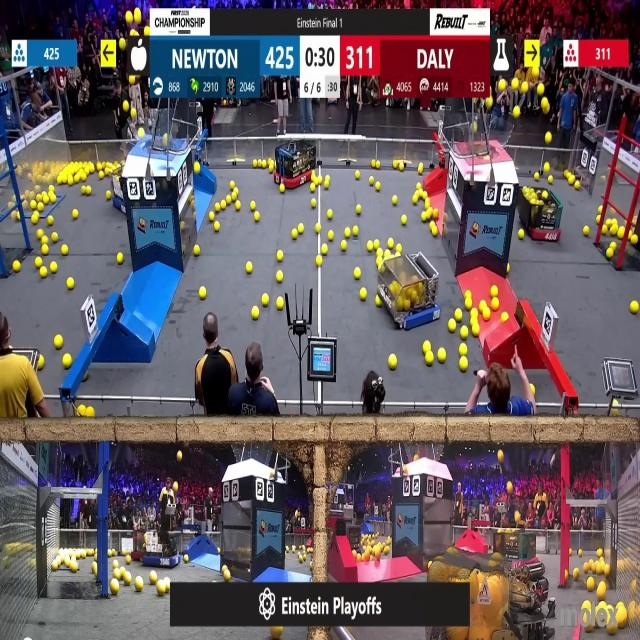ball_airborne: (272, 626, 283, 640), (540, 98, 548, 113), (498, 79, 506, 91), (531, 67, 539, 79), (514, 106, 522, 118), (134, 9, 141, 22), (537, 86, 544, 98), (486, 98, 493, 110), (497, 450, 504, 462), (122, 101, 129, 112), (138, 129, 145, 140), (118, 39, 125, 50), (544, 133, 551, 144), (127, 10, 133, 22), (506, 482, 512, 494), (173, 483, 180, 493), (516, 513, 522, 524), (522, 84, 528, 95), (176, 451, 182, 462), (131, 108, 137, 118), (513, 78, 519, 88), (164, 135, 169, 147), (130, 75, 136, 84), (144, 27, 149, 37), (131, 30, 137, 37)
ball_ground: (617, 610, 628, 630), (597, 584, 606, 601), (158, 583, 168, 596), (63, 354, 72, 368), (110, 581, 119, 595), (389, 354, 397, 369), (607, 623, 616, 636), (56, 336, 64, 350), (460, 357, 468, 371), (439, 348, 447, 362), (630, 302, 638, 315), (136, 579, 144, 592), (460, 326, 468, 339), (588, 579, 596, 592), (122, 573, 131, 584), (459, 344, 467, 356), (425, 353, 433, 365), (276, 250, 284, 262), (200, 286, 207, 299), (276, 272, 284, 283), (631, 236, 639, 247), (354, 268, 361, 280), (455, 310, 462, 322), (263, 294, 270, 306), (359, 288, 366, 300), (12, 262, 19, 274), (449, 320, 456, 332), (37, 356, 44, 368), (252, 307, 258, 320), (491, 286, 498, 297), (484, 310, 491, 321), (471, 325, 478, 336), (316, 255, 323, 266), (40, 268, 47, 279), (423, 342, 430, 353), (222, 569, 229, 580), (149, 571, 156, 582), (68, 278, 74, 290), (492, 297, 498, 309), (32, 212, 38, 224), (278, 299, 284, 311), (93, 562, 99, 574), (196, 161, 202, 173), (72, 562, 78, 574), (49, 264, 56, 274), (41, 245, 48, 255), (62, 245, 69, 255), (253, 212, 260, 222), (341, 241, 348, 251), (606, 249, 613, 259), (213, 221, 220, 231), (619, 229, 626, 239), (88, 408, 95, 418), (470, 309, 477, 319), (464, 300, 471, 310), (78, 406, 85, 416), (36, 256, 42, 267), (35, 228, 41, 239), (432, 209, 438, 220), (604, 564, 610, 575), (584, 600, 591, 609), (388, 240, 394, 250), (51, 233, 57, 243), (192, 246, 198, 256), (246, 264, 252, 274), (236, 201, 242, 211), (72, 210, 78, 220), (292, 230, 298, 240), (327, 232, 333, 242), (322, 244, 328, 254), (345, 229, 351, 239), (584, 225, 590, 235), (366, 242, 372, 252), (501, 312, 507, 322), (602, 224, 608, 234), (352, 226, 358, 236), (116, 253, 122, 263), (431, 228, 437, 238), (214, 203, 220, 213), (481, 302, 487, 312), (228, 183, 234, 193), (422, 212, 428, 222), (232, 190, 238, 200), (113, 568, 119, 578), (610, 224, 616, 234), (572, 568, 578, 578), (588, 624, 594, 634), (421, 190, 428, 198), (599, 601, 606, 609), (37, 204, 44, 212), (596, 550, 603, 558), (250, 202, 256, 211), (400, 215, 406, 224), (518, 231, 524, 240), (326, 210, 332, 219), (297, 223, 303, 232), (106, 190, 112, 199), (374, 241, 380, 250), (209, 212, 215, 221), (80, 185, 86, 194), (546, 175, 552, 184), (385, 249, 391, 258), (68, 176, 74, 185), (424, 201, 430, 210), (226, 197, 232, 206), (49, 193, 55, 202), (80, 173, 86, 182), (313, 175, 319, 184), (568, 176, 574, 185), (74, 174, 80, 183), (396, 244, 401, 254), (543, 164, 548, 174), (47, 216, 53, 224), (418, 166, 424, 174), (323, 180, 329, 188), (413, 197, 419, 205), (609, 242, 615, 250), (88, 186, 94, 194), (99, 172, 105, 180), (127, 556, 133, 564), (252, 161, 258, 169), (377, 257, 383, 265), (58, 176, 64, 184), (564, 171, 570, 179), (316, 223, 321, 232), (392, 197, 397, 206), (574, 181, 579, 190), (596, 216, 602, 223), (598, 207, 604, 214), (356, 206, 361, 214), (377, 296, 381, 306), (376, 182, 381, 190), (311, 184, 316, 192), (378, 249, 383, 257), (534, 172, 539, 180), (48, 184, 53, 192), (564, 569, 569, 577), (119, 567, 124, 575), (530, 384, 534, 394), (376, 162, 381, 170), (370, 161, 375, 169), (31, 202, 36, 210), (585, 564, 590, 572), (385, 546, 390, 554), (584, 616, 589, 624), (269, 166, 274, 174), (312, 200, 316, 209), (356, 171, 360, 180), (465, 290, 470, 297), (368, 177, 373, 184), (113, 561, 118, 568), (398, 165, 403, 172), (14, 213, 19, 220), (184, 556, 188, 564), (280, 184, 284, 192), (393, 162, 397, 170), (97, 164, 101, 172), (264, 158, 268, 166), (417, 183, 422, 189), (108, 551, 112, 558), (568, 550, 572, 557), (298, 556, 302, 563), (356, 554, 360, 561), (506, 266, 509, 274), (578, 551, 582, 557), (217, 547, 221, 553)
goal: (461, 118, 516, 159), (125, 117, 185, 153)
robot_blue: (379, 257, 444, 332), (140, 532, 183, 568)
robot_red: (503, 532, 557, 637), (517, 185, 562, 242), (273, 139, 318, 191)
